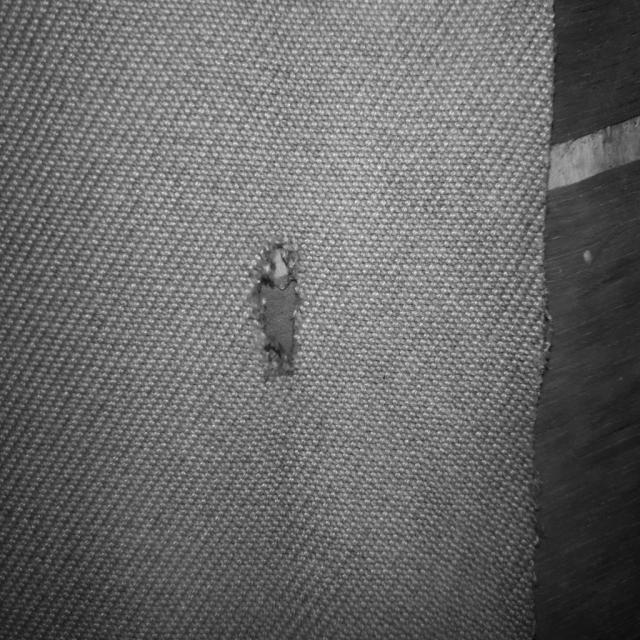other: (92, 212, 452, 424)
